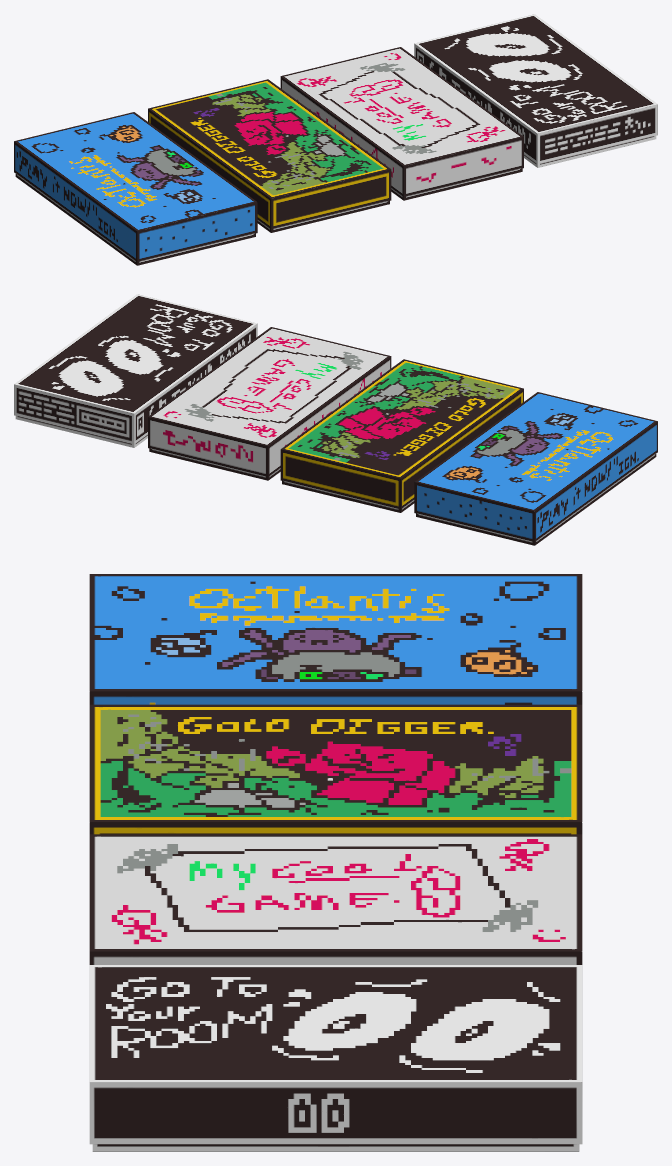
File: boardgameassets.fbx
3 renders of one model, top to bottom at view 1: azimuth 30°, elevation 25°; view 2: azimuth 150°, elevation 25°; view 3: azimuth 270°, elevation 25°, orthographic. The views are drawn at different scales.
Visible parts, largest first — view 1: Cube.003, Cube.002, Cube.001, Cube; view 2: Cube.003, Cube.002, Cube.001, Cube; view 3: Cube.001, Cube, Cube.003, Cube.002.
Part boxes in pixels (x1=…): Cube.003: x1=14, y1=112, x2=257, y2=265; Cube.002: x1=148, y1=79, x2=391, y2=232; Cube.001: x1=414, y1=14, x2=657, y2=167; Cube: x1=280, y1=47, x2=523, y2=200; Cube.003: x1=414, y1=392, x2=657, y2=545; Cube.002: x1=280, y1=359, x2=523, y2=512; Cube.001: x1=14, y1=294, x2=257, y2=447; Cube: x1=148, y1=327, x2=391, y2=480; Cube.001: x1=89, y1=965, x2=582, y2=1151; Cube: x1=89, y1=834, x2=582, y2=964; Cube.003: x1=89, y1=574, x2=582, y2=704; Cube.002: x1=89, y1=704, x2=582, y2=834.
Bounding box in the file's own units: 3028 × 195 × 1241.
